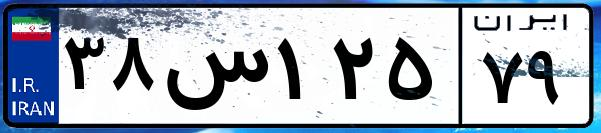1: (270, 28, 330, 110)
2: (330, 28, 385, 110)
3: (57, 26, 110, 100)
5: (385, 28, 445, 110)
7: (475, 38, 525, 113)
8: (110, 28, 158, 98)
9: (525, 38, 570, 115)
س: (158, 20, 270, 120)
